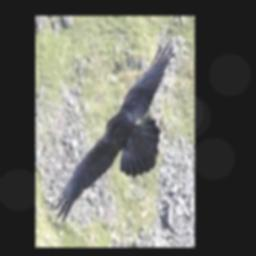Crow: (52, 43, 174, 223)
